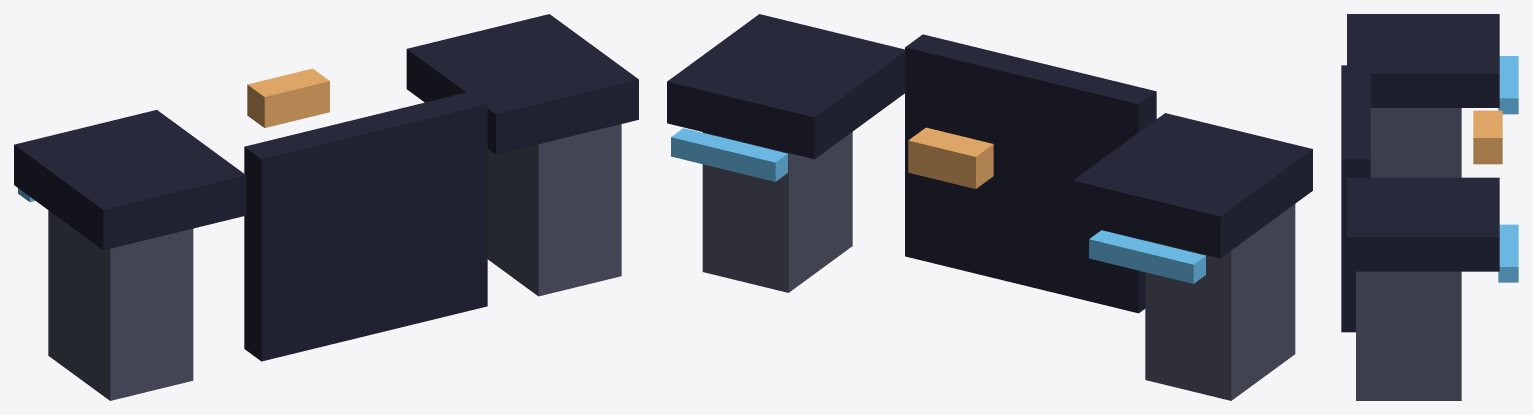
The model's file is KGB_CLASS_RoninMantle_STATIC_DRAFT_v01.obj.
The picture shows the model from 3 angles, left to right: view 1: azimuth 30°, elevation 25°; view 2: azimuth 150°, elevation 25°; view 3: azimuth 270°, elevation 25°; orthographic projection. The views are drawn at different scales.
Visible parts, largest first — view 1: part_8, part_1, part_3, part_2, part_4, part_7; view 2: part_8, part_1, part_2, part_3, part_4, part_7, part_5, part_6; view 3: part_2, part_4, part_1, part_3, part_8, part_7, part_6, part_5.
Part boxes in pixels (x1,y1,x2,y2): part_8: [244, 91, 487, 361]; part_1: [14, 110, 246, 250]; part_3: [48, 210, 193, 400]; part_2: [406, 14, 638, 154]; part_4: [487, 124, 621, 296]; part_7: [247, 68, 329, 127]; part_8: [905, 34, 1156, 313]; part_1: [1073, 113, 1312, 258]; part_2: [667, 14, 904, 159]; part_3: [1145, 204, 1295, 400]; part_4: [702, 132, 852, 292]; part_7: [908, 127, 993, 188]; part_5: [1089, 230, 1205, 283]; part_6: [671, 128, 787, 181]; part_2: [1347, 177, 1499, 271]; part_4: [1356, 271, 1461, 400]; part_1: [1347, 14, 1499, 107]; part_3: [1370, 108, 1461, 177]; part_8: [1341, 65, 1370, 332]; part_7: [1473, 110, 1502, 164]; part_6: [1498, 224, 1518, 282]; part_5: [1498, 56, 1518, 114].
Size of the model in its own units: 1.8 by 0.685 by 0.605.
